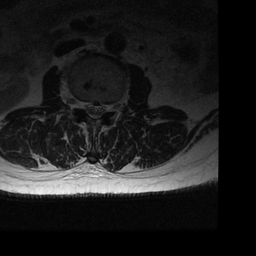CCS_stenosis: (93, 97, 98, 125)
LFS_normal: (105, 97, 113, 118)
LLS_normal: (98, 98, 105, 122)
RFS_normal: (77, 92, 85, 116)
RLS_normal: (86, 97, 93, 120)
